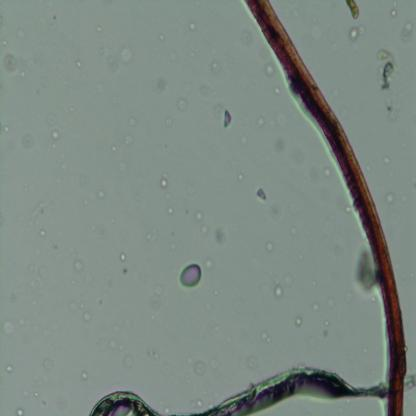Air bubble: (178, 261, 203, 291)
Background material: (374, 47, 401, 93), (351, 242, 375, 293), (188, 76, 220, 114), (3, 50, 44, 78), (27, 200, 51, 243), (148, 280, 170, 314), (140, 217, 164, 242), (28, 264, 50, 291), (182, 390, 206, 410), (268, 108, 288, 131), (384, 93, 401, 120), (211, 224, 229, 249), (118, 43, 136, 67), (235, 25, 253, 49), (106, 336, 127, 354), (102, 51, 118, 74), (348, 23, 366, 43), (153, 77, 173, 94), (376, 150, 392, 171), (20, 134, 38, 152), (204, 320, 224, 336), (220, 106, 233, 130), (270, 135, 286, 154), (283, 264, 295, 288), (346, 0, 361, 19), (42, 353, 56, 373), (10, 27, 29, 41), (402, 22, 415, 42), (144, 347, 161, 362), (71, 256, 85, 274), (39, 111, 56, 125), (384, 190, 397, 208), (122, 132, 135, 150), (271, 203, 284, 221), (77, 171, 91, 187), (320, 293, 336, 307), (330, 84, 342, 102), (58, 154, 70, 172), (272, 281, 284, 299), (176, 94, 188, 112), (260, 329, 272, 347), (20, 380, 30, 401), (3, 319, 15, 336), (158, 171, 170, 188), (48, 128, 62, 142), (122, 355, 138, 367), (210, 60, 221, 77), (93, 80, 106, 94), (95, 187, 109, 200), (255, 186, 268, 200), (68, 301, 86, 311), (193, 209, 205, 224), (206, 355, 218, 370), (247, 354, 258, 370), (117, 159, 128, 175), (0, 122, 12, 136), (194, 362, 206, 376), (118, 248, 128, 264), (209, 287, 222, 299), (204, 257, 215, 271), (38, 74, 50, 86), (168, 50, 179, 63), (199, 220, 209, 234), (286, 222, 296, 236), (265, 63, 275, 77), (268, 86, 282, 96), (82, 273, 94, 284), (30, 389, 40, 402), (321, 166, 332, 177), (4, 364, 15, 375), (256, 116, 266, 128), (164, 114, 174, 126), (18, 317, 29, 327), (235, 170, 245, 181), (188, 20, 197, 32), (167, 204, 176, 216), (81, 314, 94, 322), (111, 143, 120, 154), (296, 315, 303, 329), (322, 318, 330, 330), (390, 7, 398, 19), (13, 407, 24, 415), (308, 304, 319, 312), (81, 371, 89, 382), (120, 268, 131, 276), (160, 406, 170, 414), (148, 313, 158, 321), (96, 296, 103, 307), (224, 336, 232, 345), (156, 33, 165, 41), (266, 243, 274, 252), (130, 118, 138, 127), (0, 36, 7, 46), (94, 24, 102, 32), (77, 57, 82, 69), (242, 135, 247, 146), (51, 12, 57, 21), (170, 245, 177, 252), (69, 107, 73, 112)
Cellulose filter fibre: (88, 363, 389, 414)
Cotton: (242, 0, 403, 414)
